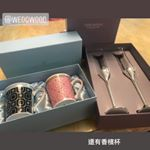cups: (42, 71, 85, 110), (1, 80, 40, 123)
